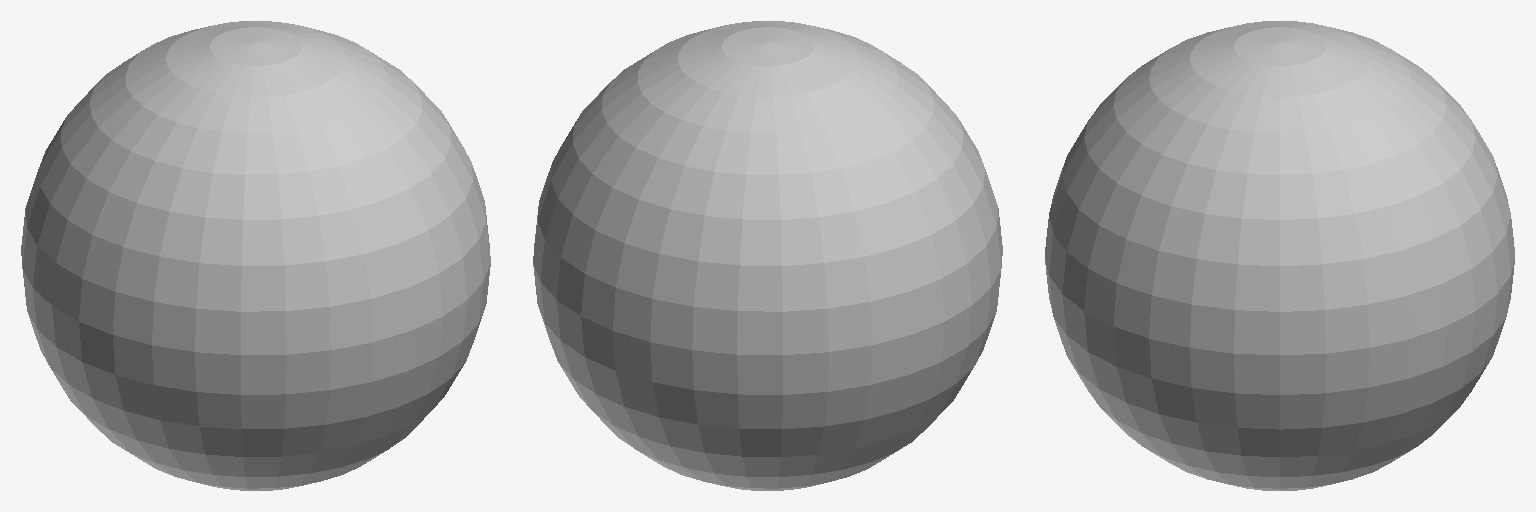
The model's file is ball.obj.
3 renders of one model, left to right at view 1: azimuth 30°, elevation 25°; view 2: azimuth 150°, elevation 25°; view 3: azimuth 270°, elevation 25°, orthographic.
Visible parts, largest first — view 1: Sphere; view 2: Sphere; view 3: Sphere.
Part boxes in pixels (bbox=[...]): Sphere: bbox=[21, 21, 490, 490]; Sphere: bbox=[533, 21, 1002, 490]; Sphere: bbox=[1045, 21, 1514, 490].
Bounding box in the file's own units: 1 × 1 × 1.